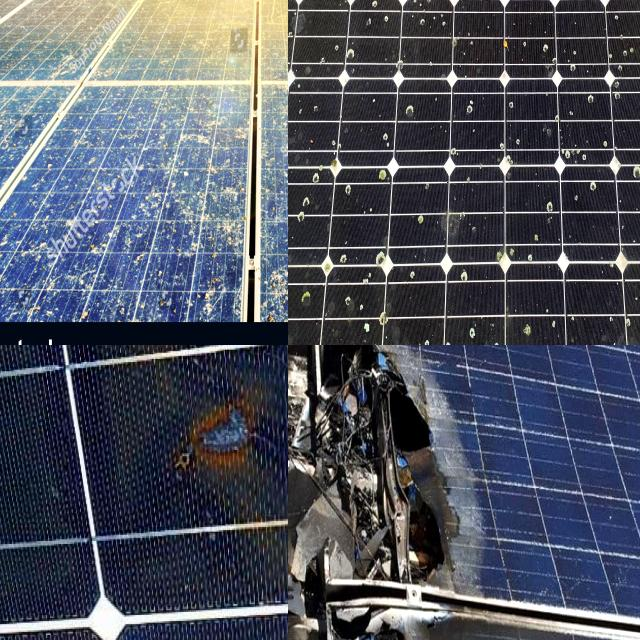bird: (290, 160, 328, 232), (45, 36, 88, 84), (187, 272, 229, 321), (218, 185, 250, 247), (0, 100, 39, 150), (264, 266, 288, 321), (182, 130, 214, 168), (86, 222, 110, 272), (294, 277, 321, 319), (292, 282, 320, 322), (410, 198, 436, 238), (518, 194, 557, 217), (623, 152, 640, 201), (128, 236, 154, 268), (399, 95, 418, 121), (0, 219, 13, 254), (0, 221, 9, 268), (288, 181, 296, 229)
shadow: (312, 345, 501, 599), (165, 400, 288, 495), (127, 345, 218, 401)
